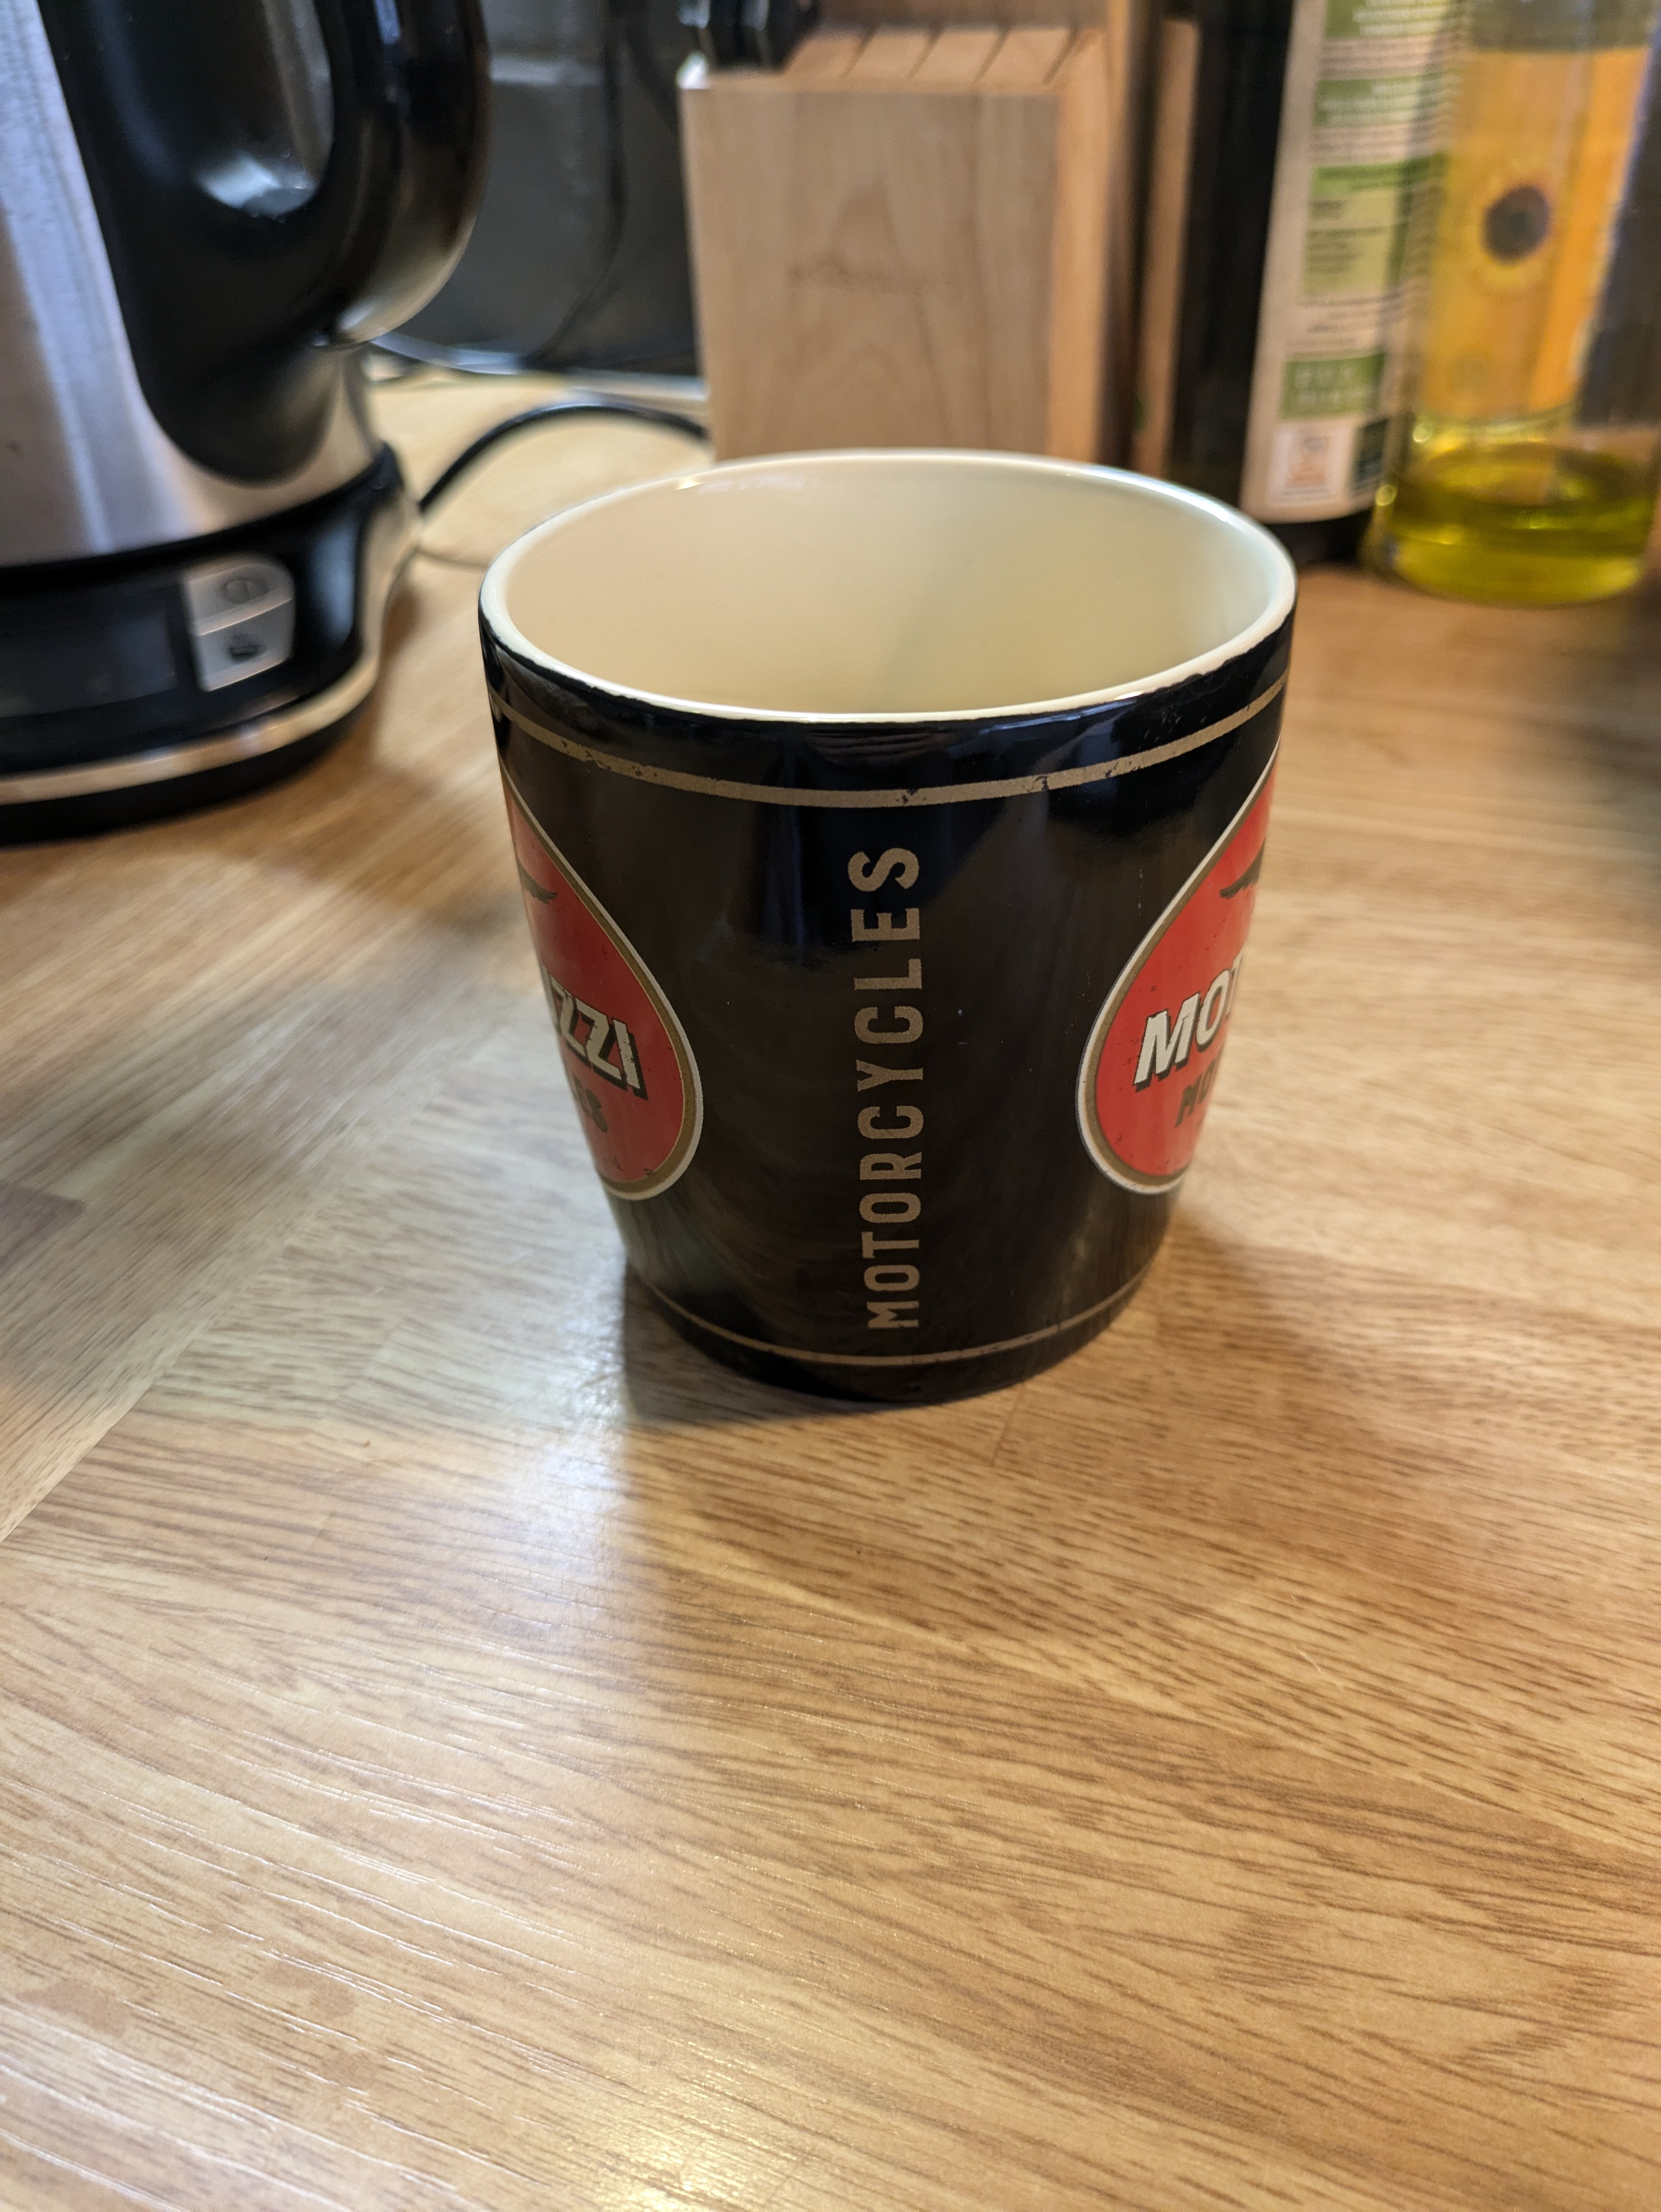mok: (426, 396, 1342, 1457)
